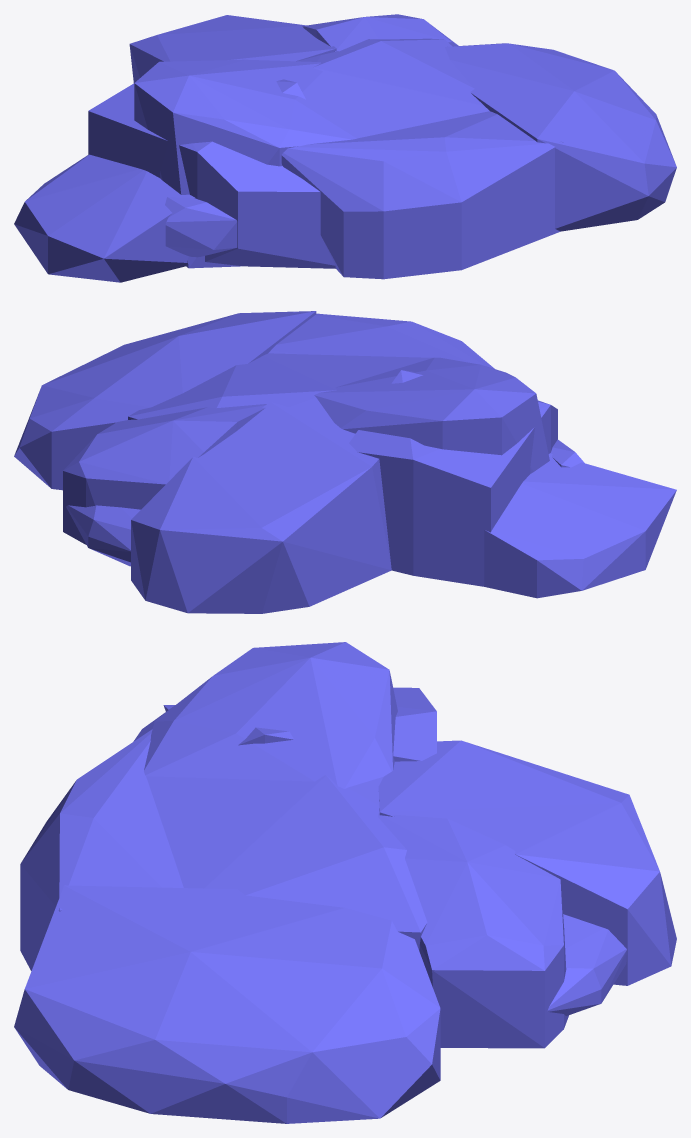
The model's file is Obstacle_09_Colllider_01.FBX.
The picture shows the model from 3 angles, top to bottom: view 1: azimuth 30°, elevation 25°; view 2: azimuth 150°, elevation 25°; view 3: azimuth 270°, elevation 25°; orthographic projection. The views are drawn at different scales.
Visible parts, largest first — view 1: COLLIDER8, COLLIDER7, COLLIDER3, COLLIDER5, COLLIDER6, COLLIDER4, COLLIDER1, COLLIDER10, COLLIDER2; view 2: COLLIDER1, COLLIDER6, COLLIDER7, COLLIDER5, COLLIDER3, COLLIDER2, COLLIDER4, COLLIDER8, COLLIDER9, COLLIDER10; view 3: COLLIDER7, COLLIDER1, COLLIDER2, COLLIDER4, COLLIDER3, COLLIDER8, COLLIDER9, COLLIDER5.
Boxes of the visible parts, x1,y1,x2,y2 form: COLLIDER8: [281, 111, 563, 279]; COLLIDER7: [445, 43, 676, 231]; COLLIDER3: [134, 59, 357, 268]; COLLIDER5: [88, 79, 335, 268]; COLLIDER6: [14, 154, 194, 282]; COLLIDER4: [297, 38, 489, 138]; COLLIDER1: [129, 15, 336, 82]; COLLIDER10: [165, 197, 237, 257]; COLLIDER2: [302, 14, 458, 52]; COLLIDER1: [131, 402, 391, 613]; COLLIDER6: [484, 453, 676, 598]; COLLIDER7: [14, 311, 316, 490]; COLLIDER5: [349, 370, 557, 586]; COLLIDER3: [314, 357, 549, 473]; COLLIDER2: [63, 404, 266, 544]; COLLIDER4: [128, 353, 433, 422]; COLLIDER8: [268, 311, 494, 368]; COLLIDER9: [66, 505, 140, 566]; COLLIDER10: [550, 439, 584, 467]; COLLIDER7: [14, 885, 440, 1123]; COLLIDER1: [378, 740, 676, 985]; COLLIDER2: [378, 813, 568, 1048]; COLLIDER4: [146, 775, 427, 950]; COLLIDER3: [144, 642, 397, 788]; COLLIDER8: [20, 729, 183, 970]; COLLIDER9: [547, 914, 626, 1015]; COLLIDER5: [133, 687, 436, 761].
Bounding box in the file's own units: 368 × 89.8 × 279.
